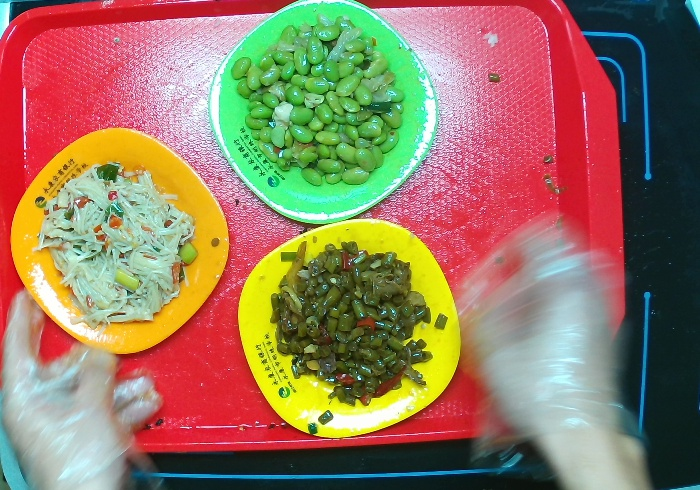YKMZ-Huang_Se_Fang_Die: (234, 218, 463, 436)
YKMZ-Ju_Se_Fang_Die: (8, 121, 227, 358)
YKMZ-Lv_Se_Fang_Die: (208, 1, 439, 225)
